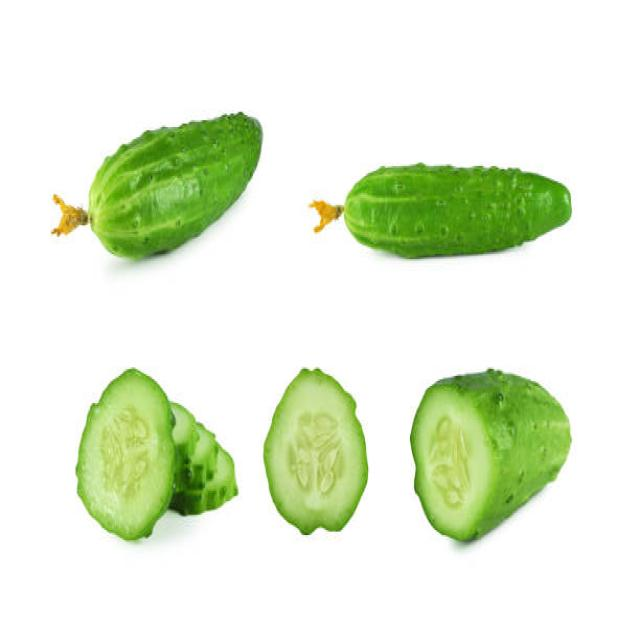cucumber: (411, 368, 573, 542), (88, 109, 263, 260), (344, 160, 572, 259)
